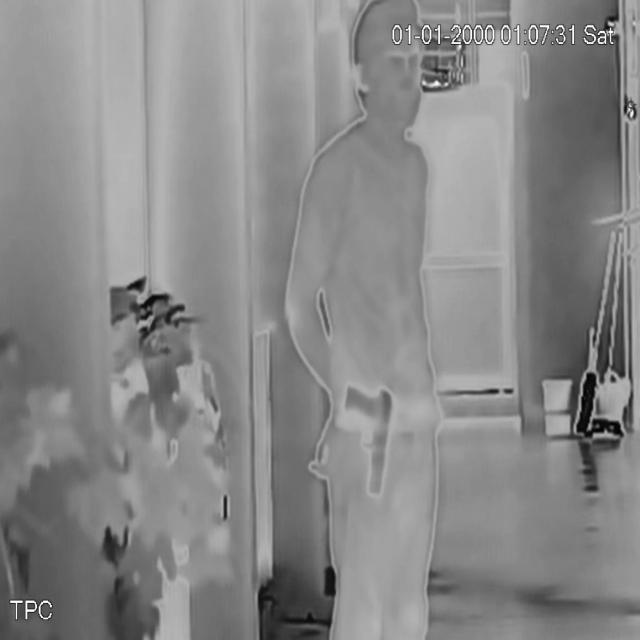Weapon: (338, 379, 409, 517)
